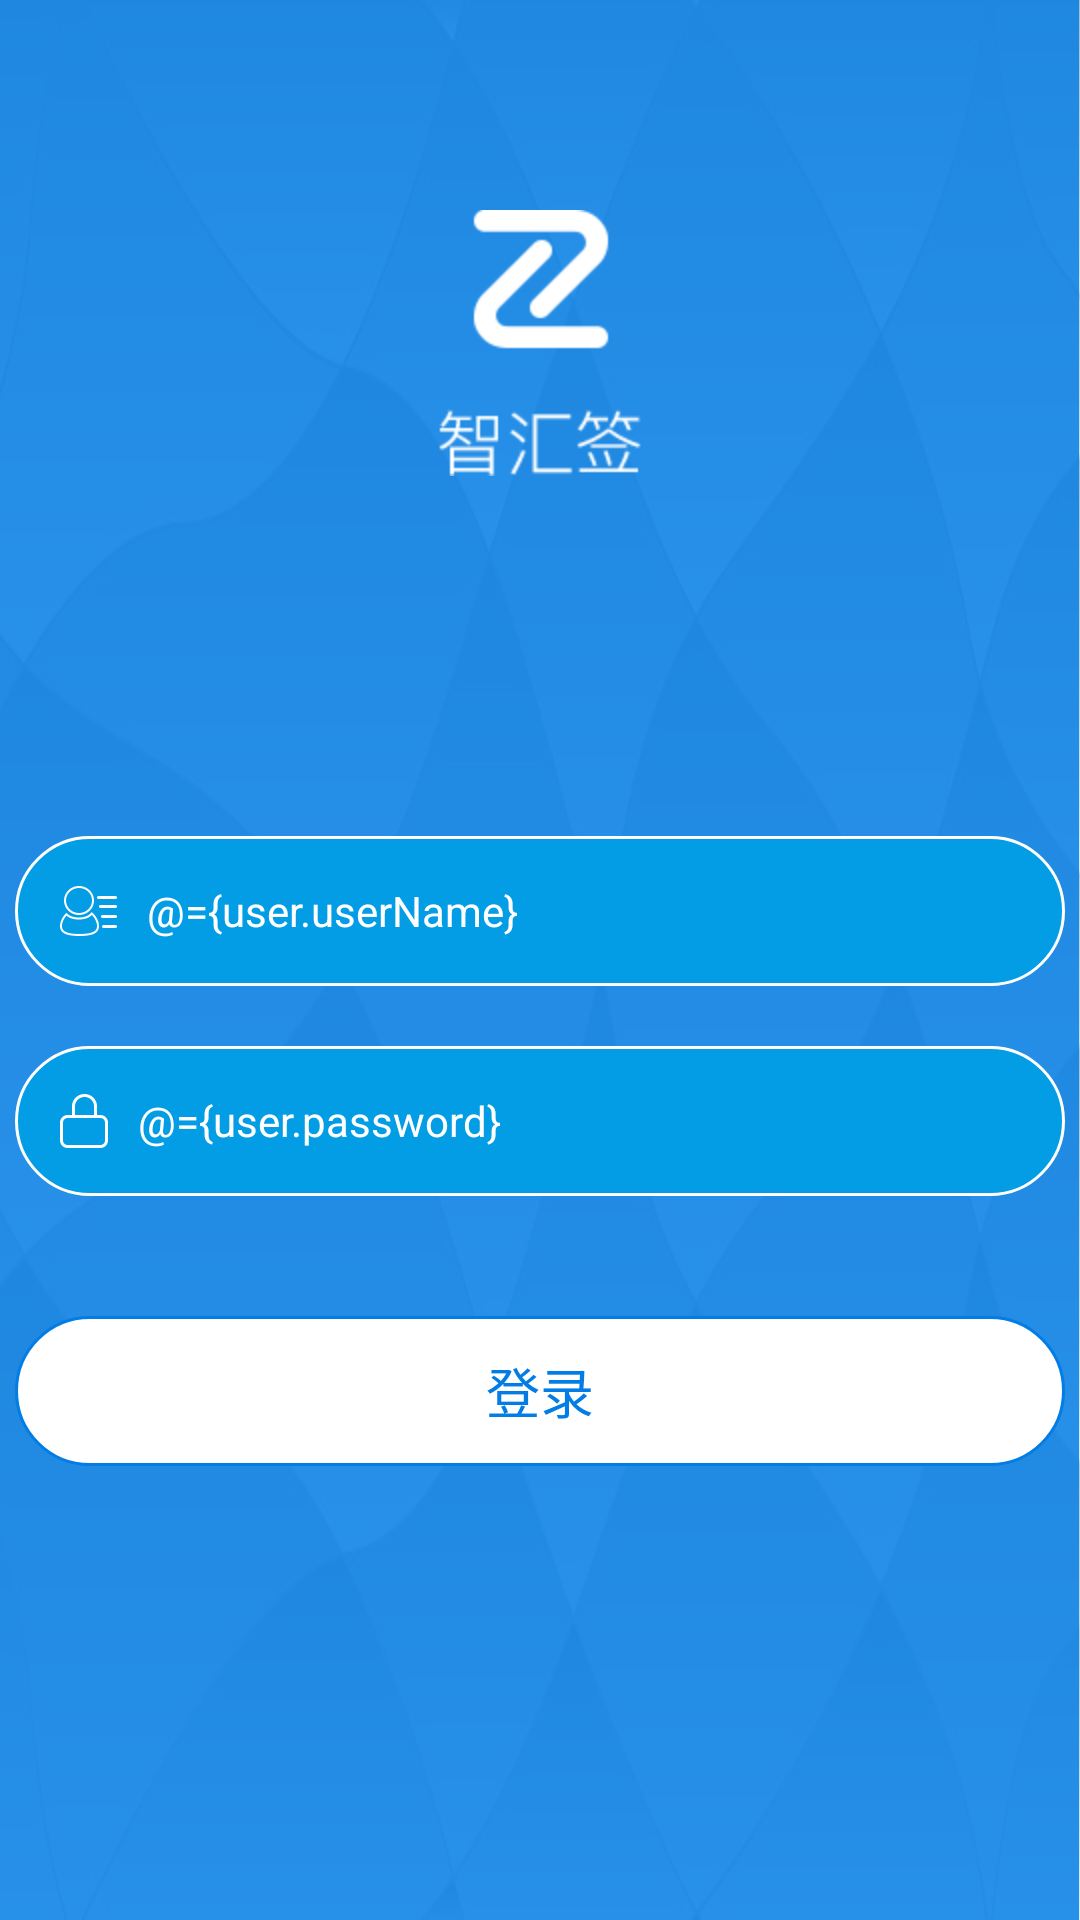

Named icons in this screenshot (1080 × 1920) and their centers, point (x, y):
login psd: point (84, 1121)
login username: point (88, 911)
